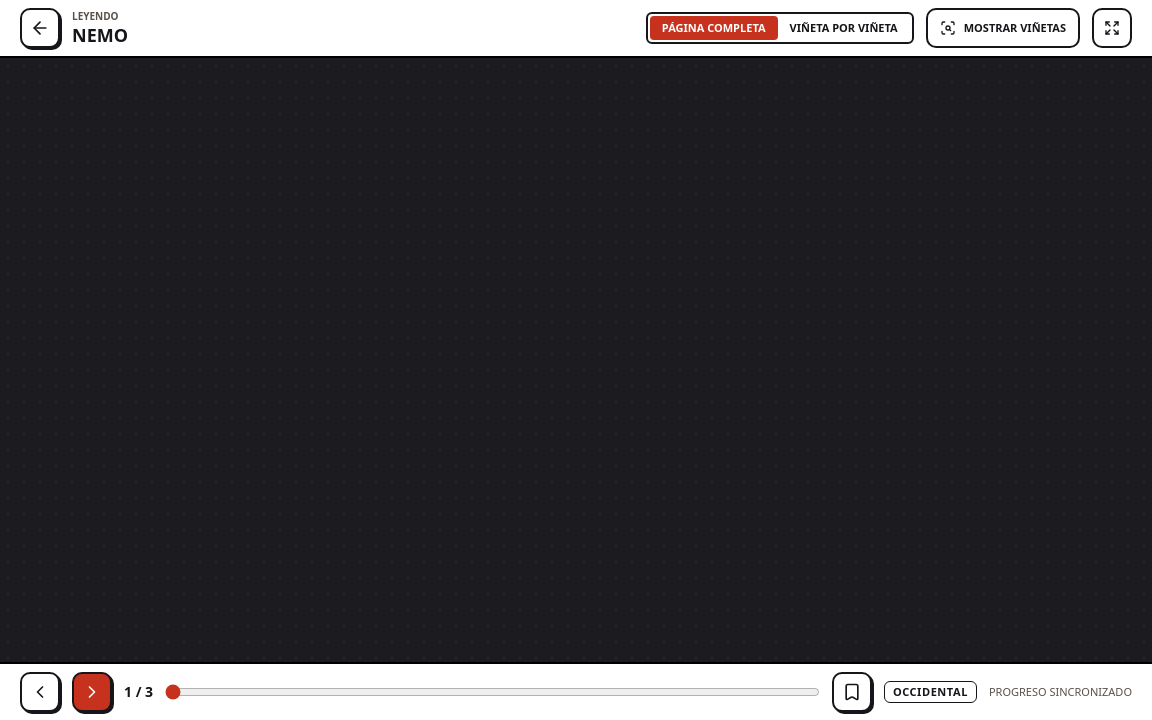
Test: Reader › marca la página y guarda el progreso en el dispositivo
Click the button named "Página siguiente": {"x": 92, "y": 692} [72,672,112,712]
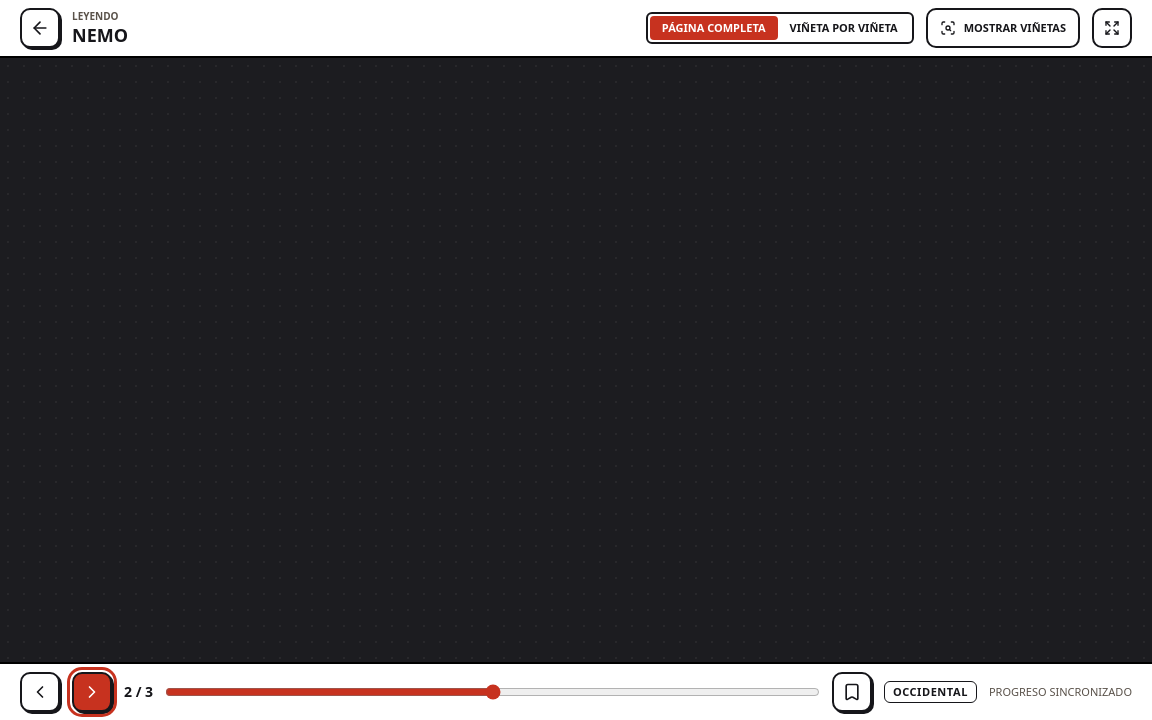
Click the button named "Marcar esta página": {"x": 852, "y": 692} [832,672,872,712]
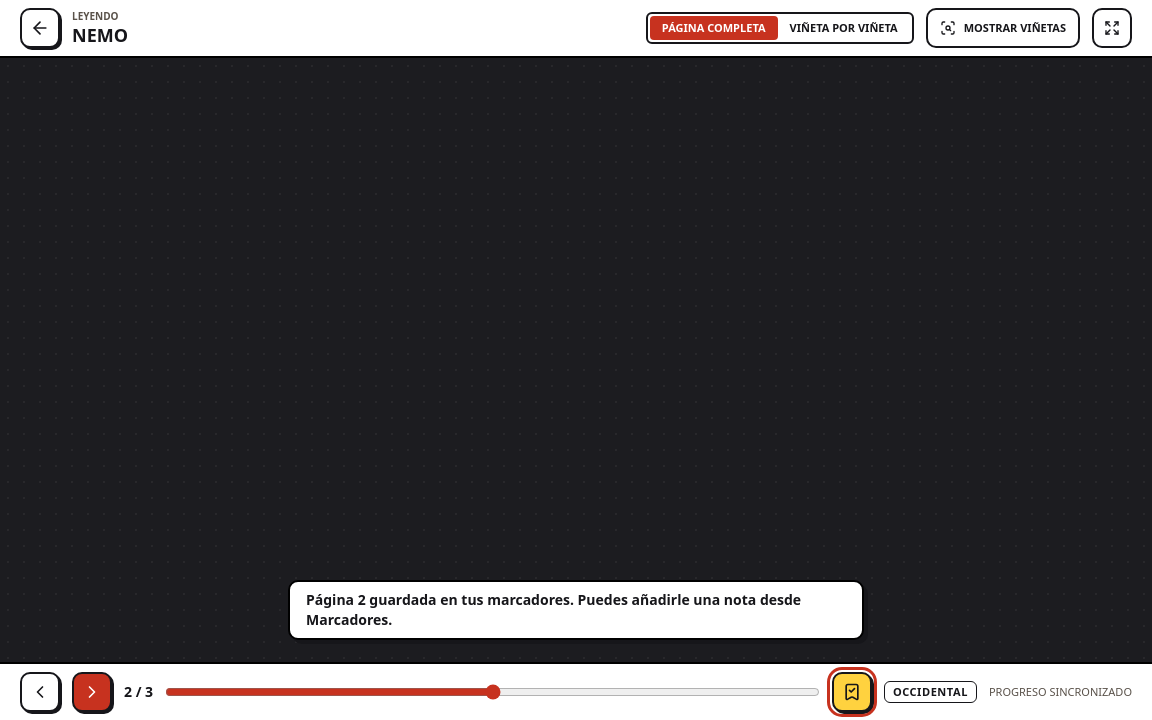
expect the text "Página 2 guardada en tus marcadores. Puedes añadirle una nota desde Marcadores." is shown: met, box [288,580,864,640]
